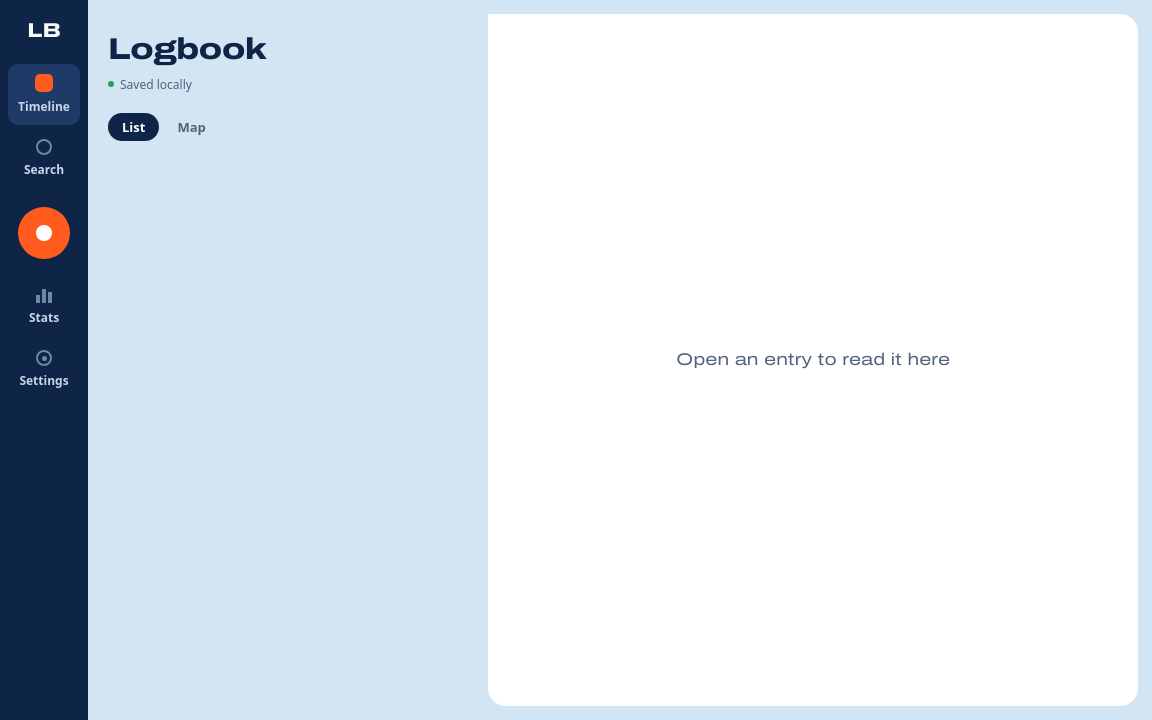
App › navigates between tabs and hides the tab bar behind an overlay
What coordinates should you click on to do the following:
click the button "Stats"
I would click on:
 (44, 306)
Its box is [8,277,80,336].
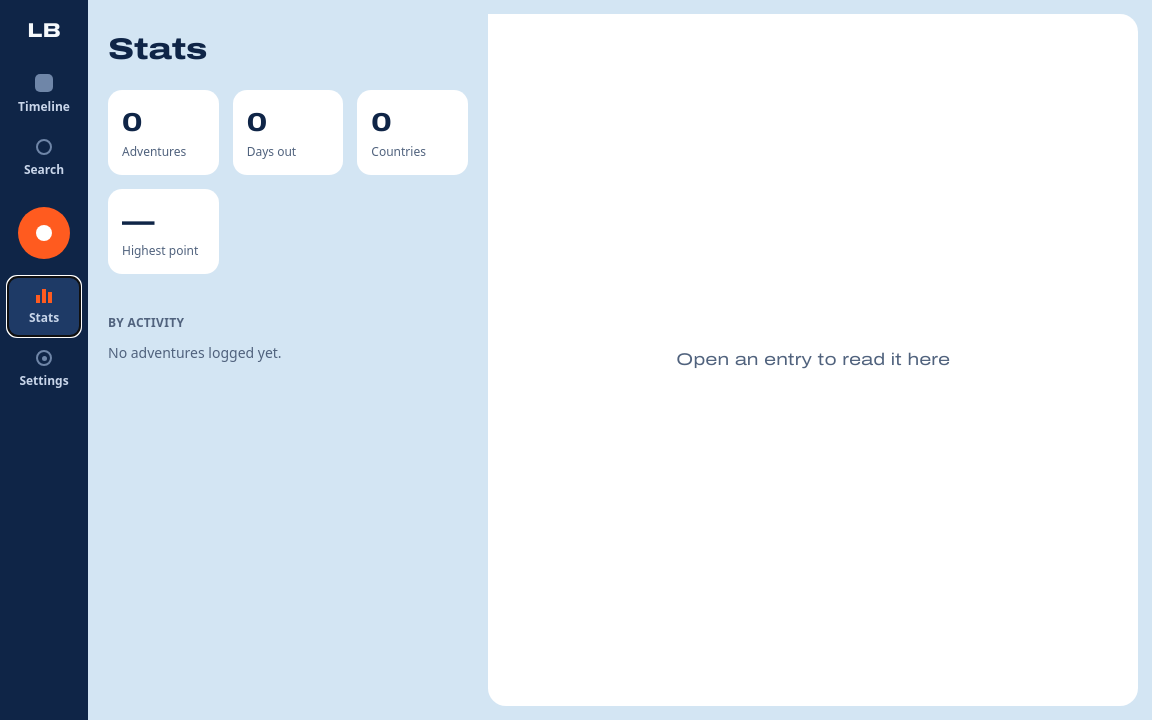
Expected: the text "By activity" is shown, [108,314,184,331]
What coordinates should you click on to do the following:
click the button "Settings"
I would click on:
 (44, 370)
Its box is [8,340,80,400].
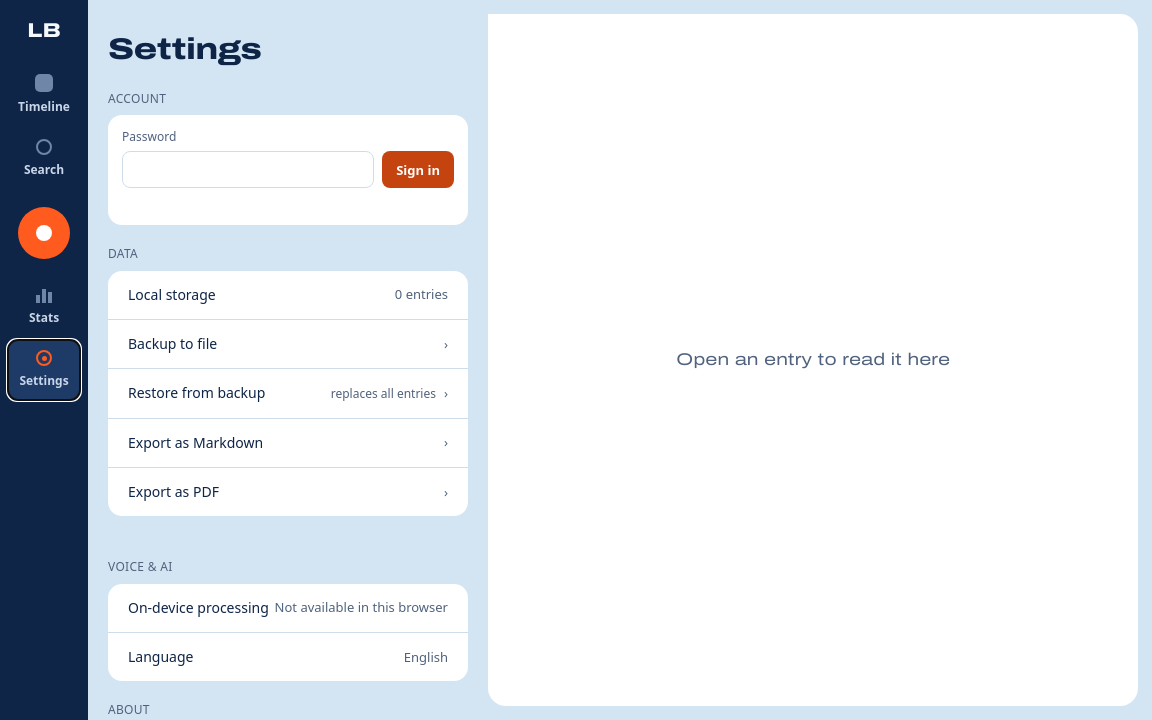
What coordinates should you click on to do the following:
click the button "Search"
I would click on:
 (44, 159)
Its box is [8,129,80,189].
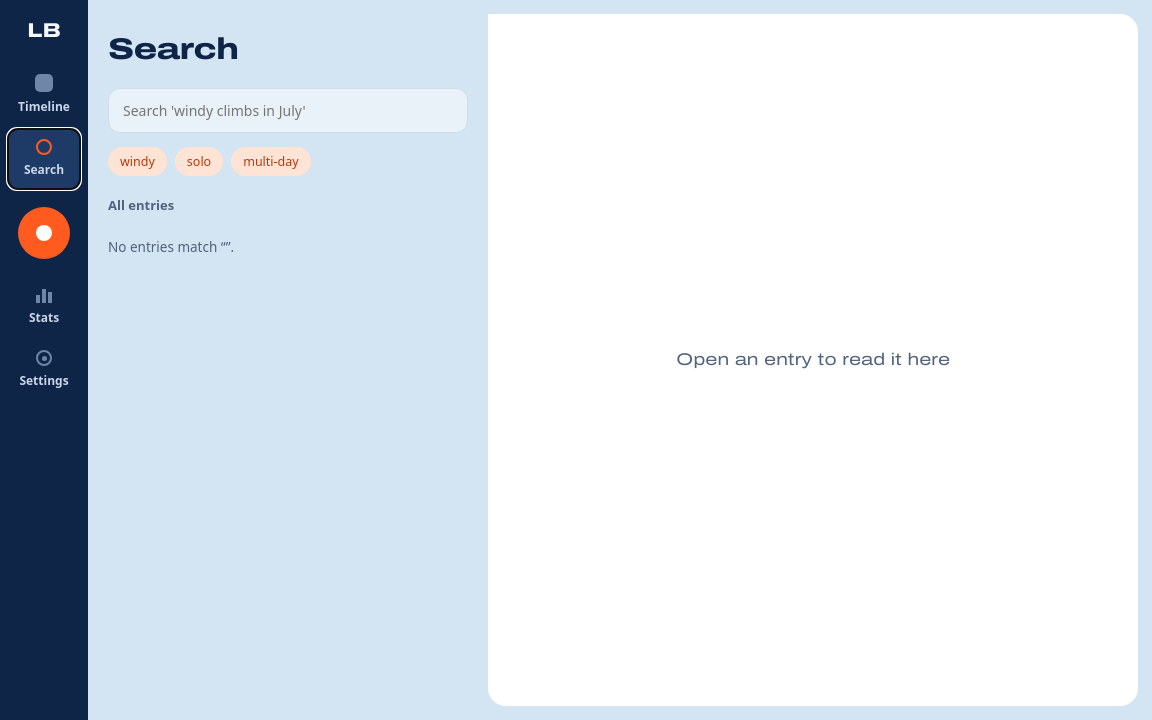
Expected: the search field is shown, [108,88,468,132]
What coordinates should you click on to do the following:
click the button "Timeline"
I would click on:
 (44, 95)
Its box is [8,64,80,125].
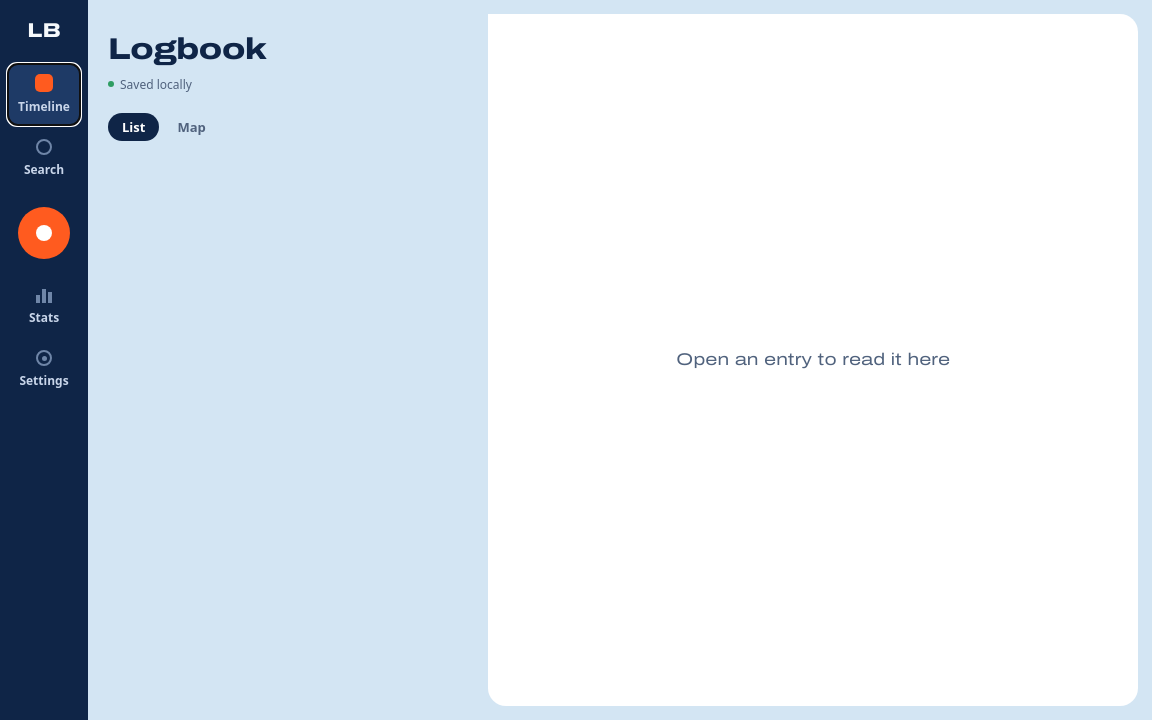
Expected: the text "Saved locally" is shown, [120,76,192,93]
